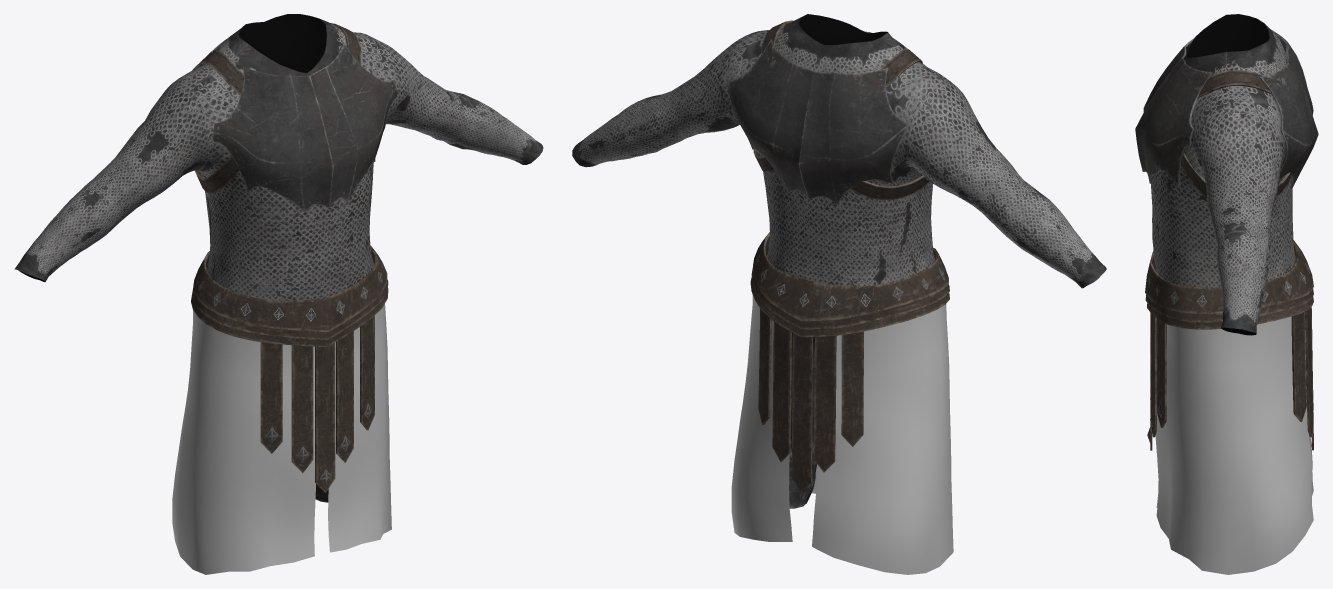
The model's file is sk_uruk_mordor_chainmail_medium_d2.fbx.
3 views of the same model, side by side, from view 1: azimuth 30°, elevation 25°; view 2: azimuth 150°, elevation 25°; view 3: azimuth 270°, elevation 25° (orthographic). The views are drawn at different scales.
Parts seen in each view (by area): view 1: sk_uruk_mordor_chainmail_medium_d2.0, sk_uruk_mordor_chainmail_medium_d2.2, sk_uruk_mordor_chainmail_medium_d2.1, sk_uruk_mordor_chainmail_medium_d2.3; view 2: sk_uruk_mordor_chainmail_medium_d2.0, sk_uruk_mordor_chainmail_medium_d2.2, sk_uruk_mordor_chainmail_medium_d2.1, sk_uruk_mordor_chainmail_medium_d2.3; view 3: sk_uruk_mordor_chainmail_medium_d2.2, sk_uruk_mordor_chainmail_medium_d2.0, sk_uruk_mordor_chainmail_medium_d2.1, sk_uruk_mordor_chainmail_medium_d2.3.
Boxes of the visible parts, x1,y1,x2,y2 form: sk_uruk_mordor_chainmail_medium_d2.0: (14,14,543,502); sk_uruk_mordor_chainmail_medium_d2.2: (172,304,391,574); sk_uruk_mordor_chainmail_medium_d2.1: (191,23,388,492); sk_uruk_mordor_chainmail_medium_d2.3: (192,39,396,212); sk_uruk_mordor_chainmail_medium_d2.0: (572,14,1106,508); sk_uruk_mordor_chainmail_medium_d2.2: (731,294,953,574); sk_uruk_mordor_chainmail_medium_d2.1: (750,20,949,492); sk_uruk_mordor_chainmail_medium_d2.3: (727,31,926,204); sk_uruk_mordor_chainmail_medium_d2.2: (1155,316,1313,574); sk_uruk_mordor_chainmail_medium_d2.0: (1151,14,1295,335); sk_uruk_mordor_chainmail_medium_d2.1: (1145,70,1313,450); sk_uruk_mordor_chainmail_medium_d2.3: (1135,29,1318,188).
Bounding box in the file's own units: 1.37 × 0.4316 × 1.29.
